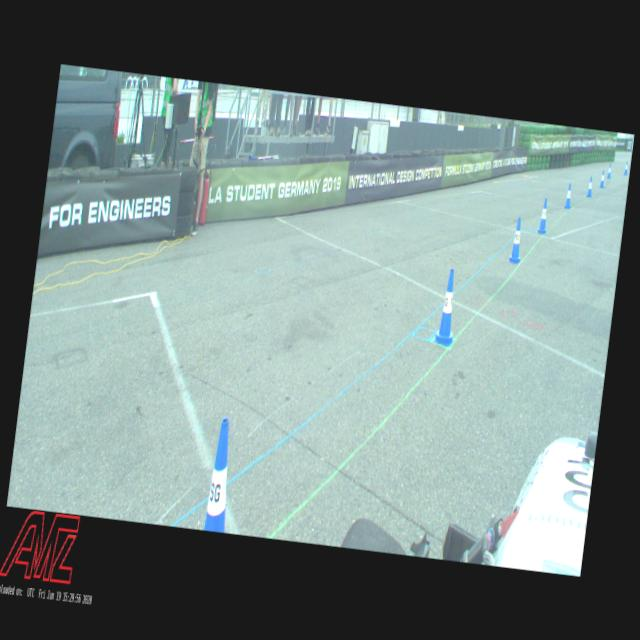blue_cone: (203, 418, 238, 532), (432, 267, 462, 347), (507, 216, 525, 264), (537, 198, 550, 234), (564, 183, 573, 209), (586, 175, 594, 198), (598, 170, 606, 188), (606, 163, 612, 178), (624, 160, 628, 174)
